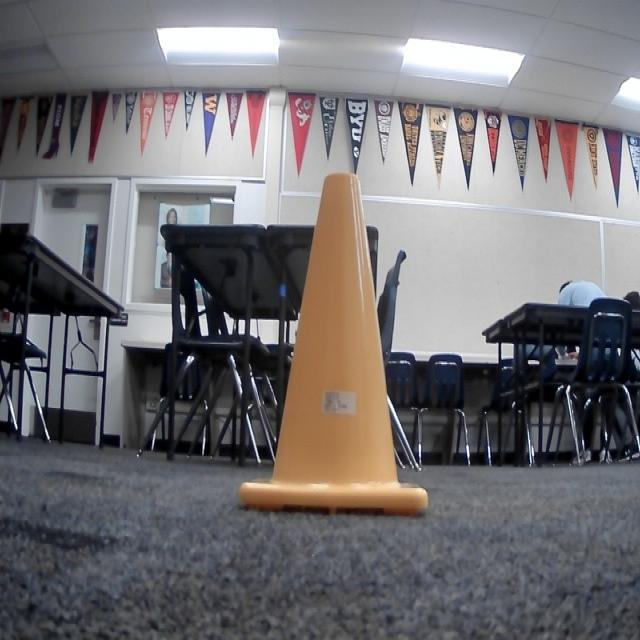cone: (228, 168, 433, 518)
